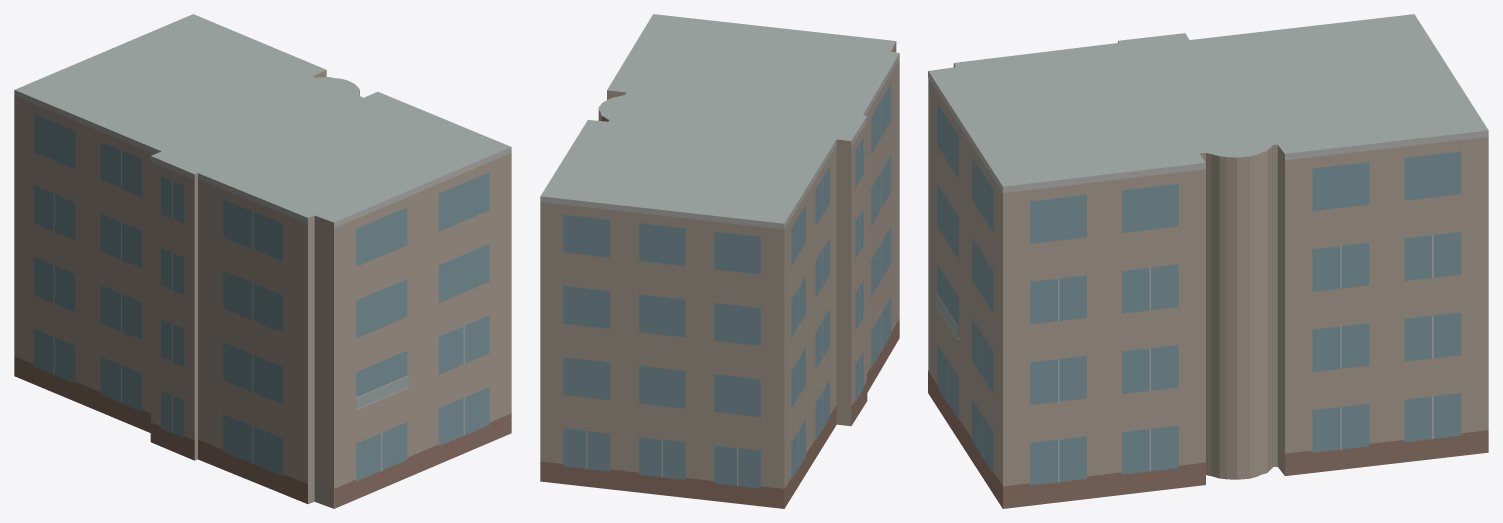
Rendered from survey-upis-32569385.glb.
3 views of the same model, side by side, from view 1: azimuth 30°, elevation 25°; view 2: azimuth 150°, elevation 25°; view 3: azimuth 270°, elevation 25° (orthographic). The views are drawn at different scales.
Parts seen in each view (by area): view 1: survey-upis-32569385.tmp; view 2: survey-upis-32569385.tmp; view 3: survey-upis-32569385.tmp.
Boxes of the visible parts, bbox=[...] form: survey-upis-32569385.tmp: bbox=[14, 14, 511, 508]; survey-upis-32569385.tmp: bbox=[540, 14, 899, 508]; survey-upis-32569385.tmp: bbox=[928, 14, 1488, 508].
Size of the model in its own units: 13.92 by 12.1 by 19.09.
